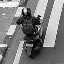mobil: (9, 7, 55, 54)
